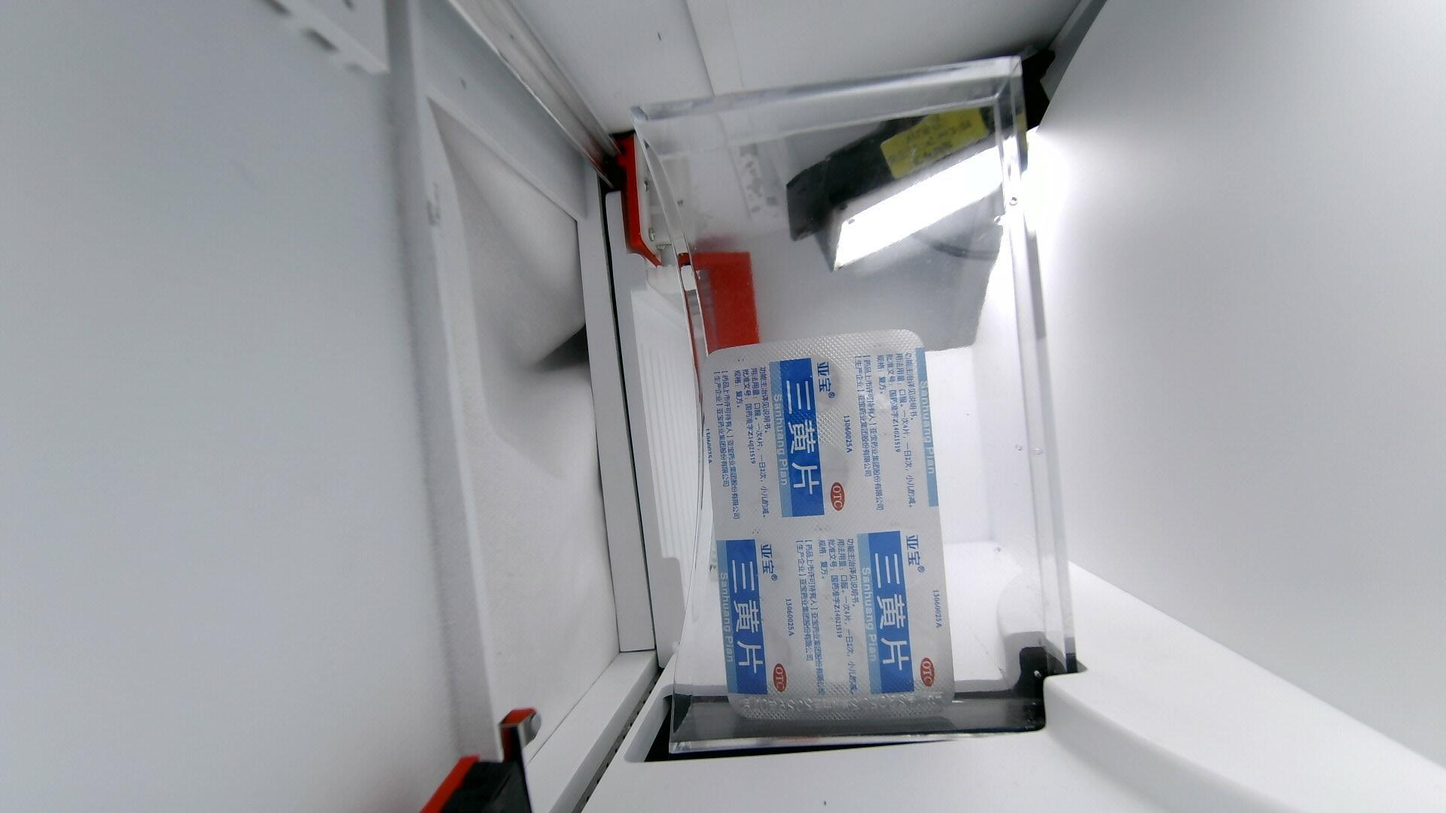Pill Back: (789, 437, 857, 501), (728, 537, 794, 601), (803, 524, 860, 595), (865, 433, 929, 495), (879, 524, 934, 595), (781, 352, 843, 413), (731, 623, 794, 683), (803, 622, 868, 680), (857, 349, 914, 414), (722, 452, 789, 504), (709, 361, 770, 416), (886, 612, 939, 675)
